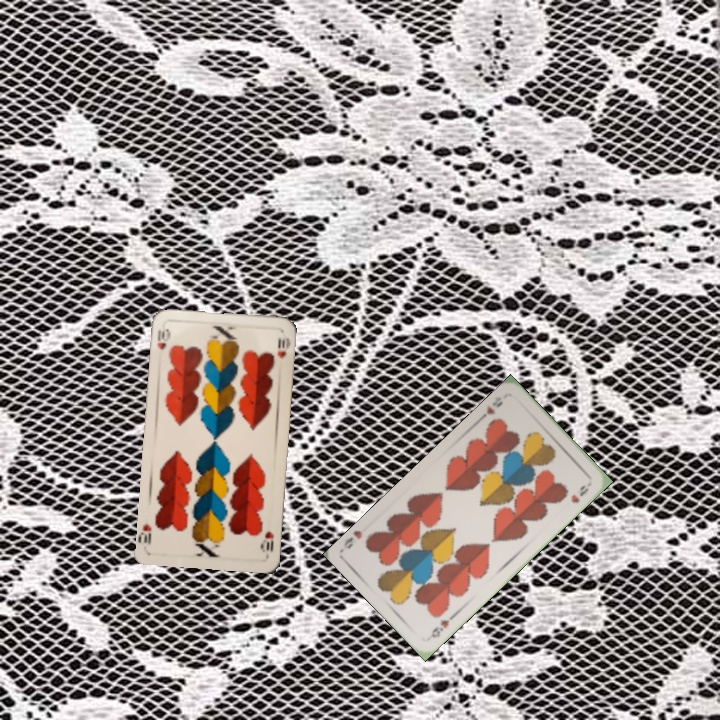H10: (258, 527, 276, 559), (153, 325, 172, 352)
H9: (475, 392, 505, 423), (424, 615, 452, 642)
